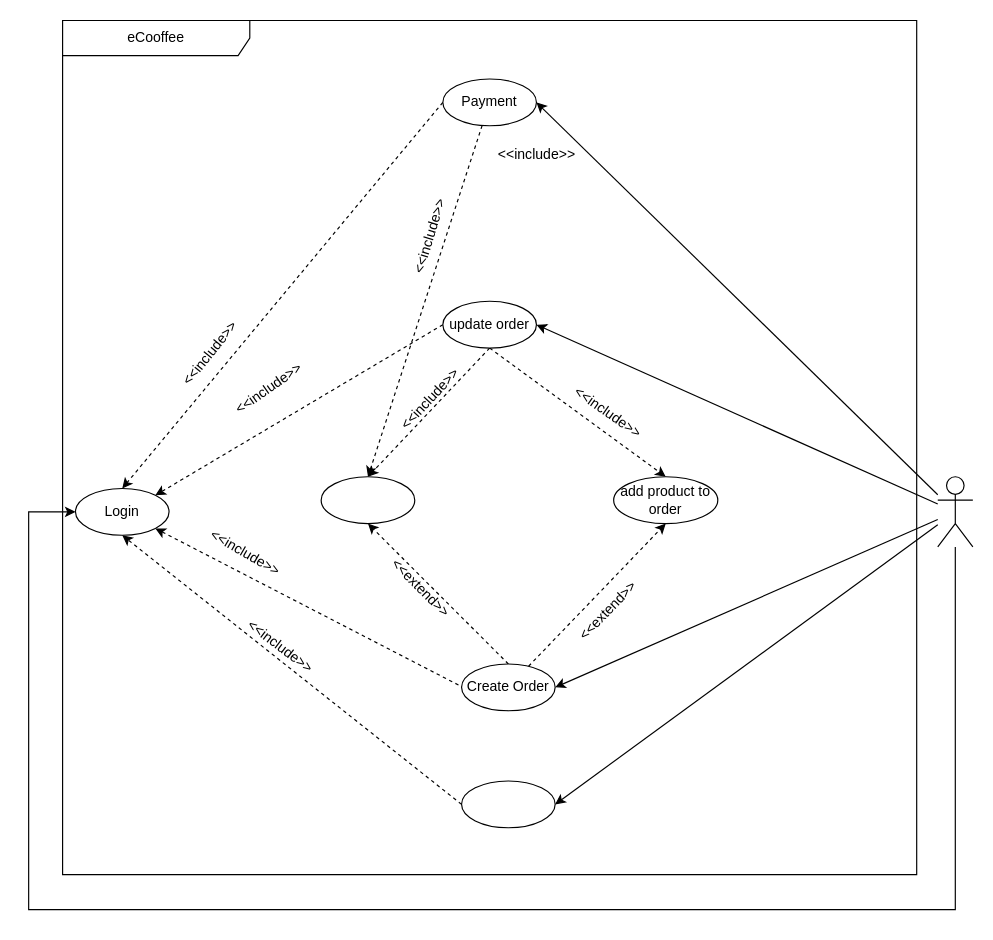
This 993x940 diagram has some shape labels left out. The centre of each missing label's shape, as x and y in pixels:
Check out: the point at 507,804
Staff: the point at 955,511
view order details: the point at 367,500
